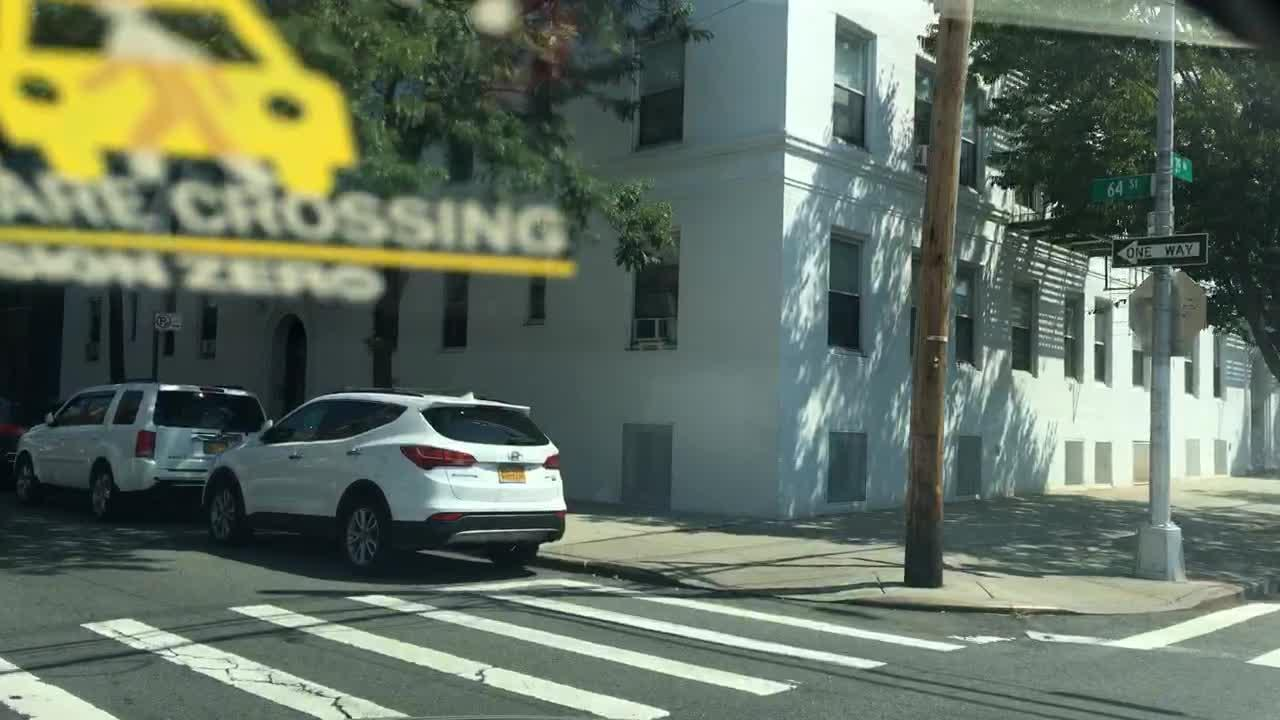Hyundai: (505, 447, 526, 465)
